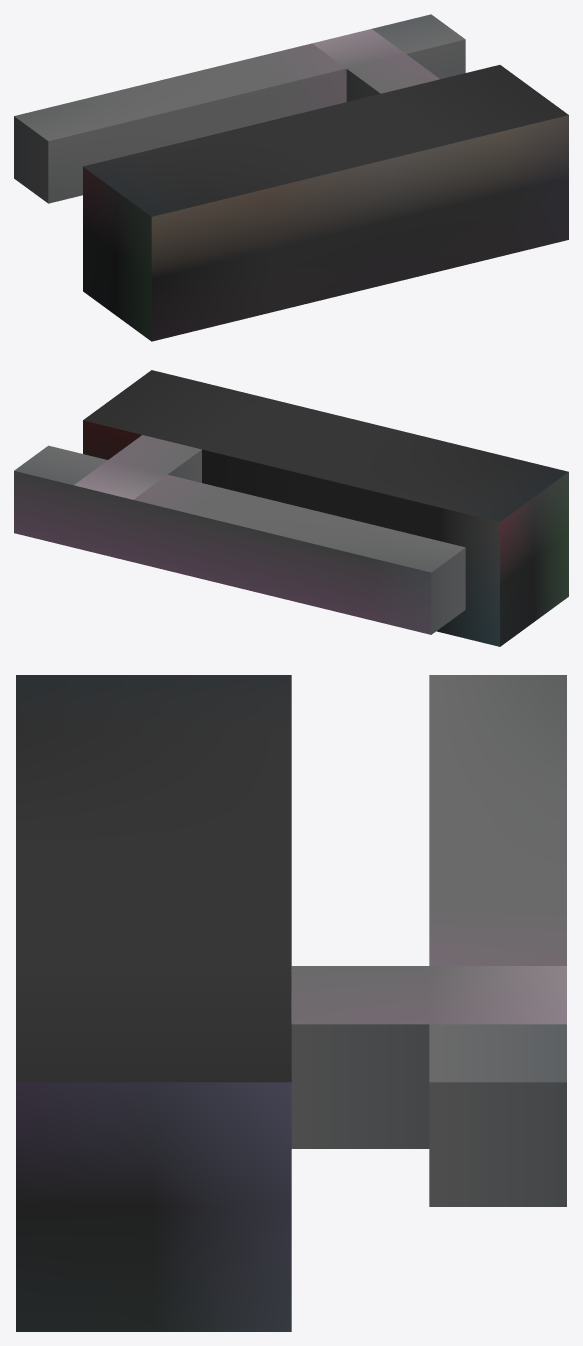
Rendered from Scooter_Small_A_00.fbx.
3 renders of one model, top to bottom at view 1: azimuth 30°, elevation 25°; view 2: azimuth 150°, elevation 25°; view 3: azimuth 270°, elevation 25°, orthographic. The views are drawn at different scales.
Visible parts, largest first — view 1: Scooter_Small_A_00; view 2: Scooter_Small_A_00; view 3: Scooter_Small_A_00.
Boxes of the visible parts, <box> form: Scooter_Small_A_00: <box>14,14,568,341</box>; Scooter_Small_A_00: <box>14,370,568,646</box>; Scooter_Small_A_00: <box>16,675,566,1331</box>.
Size of the model in its own units: 35 by 10 by 20.
